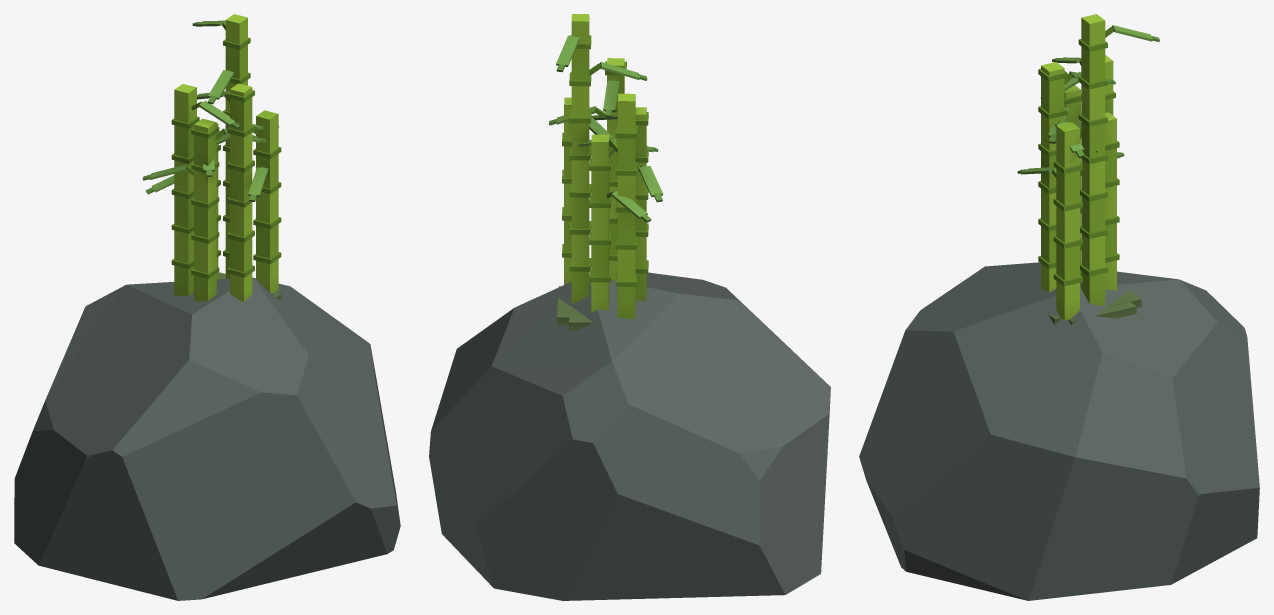
The model's file is BambooBoulder.fbx.
3 renders of one model, left to right at view 1: azimuth 30°, elevation 25°; view 2: azimuth 150°, elevation 25°; view 3: azimuth 270°, elevation 25°, orthographic. The views are drawn at different scales.
Visible parts, largest first — view 1: BambooBoulder, BambooBoulder_Bamboo; view 2: BambooBoulder, BambooBoulder_Bamboo; view 3: BambooBoulder, BambooBoulder_Bamboo.
Boxes of the visible parts, x1,y1,x2,y2 form: BambooBoulder: (14,277,400,600); BambooBoulder_Bamboo: (142,14,281,318); BambooBoulder: (429,272,830,600); BambooBoulder_Bamboo: (549,14,662,330); BambooBoulder: (859,262,1259,600); BambooBoulder_Bamboo: (1017,14,1159,325).
Bounding box in the file's own units: 16.32 × 22.09 × 15.53.
